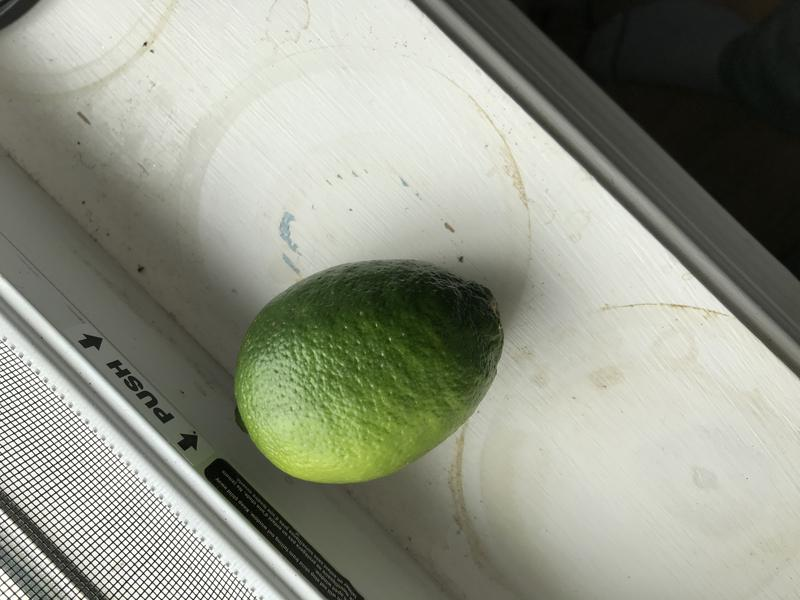lime: (216, 248, 513, 493)
